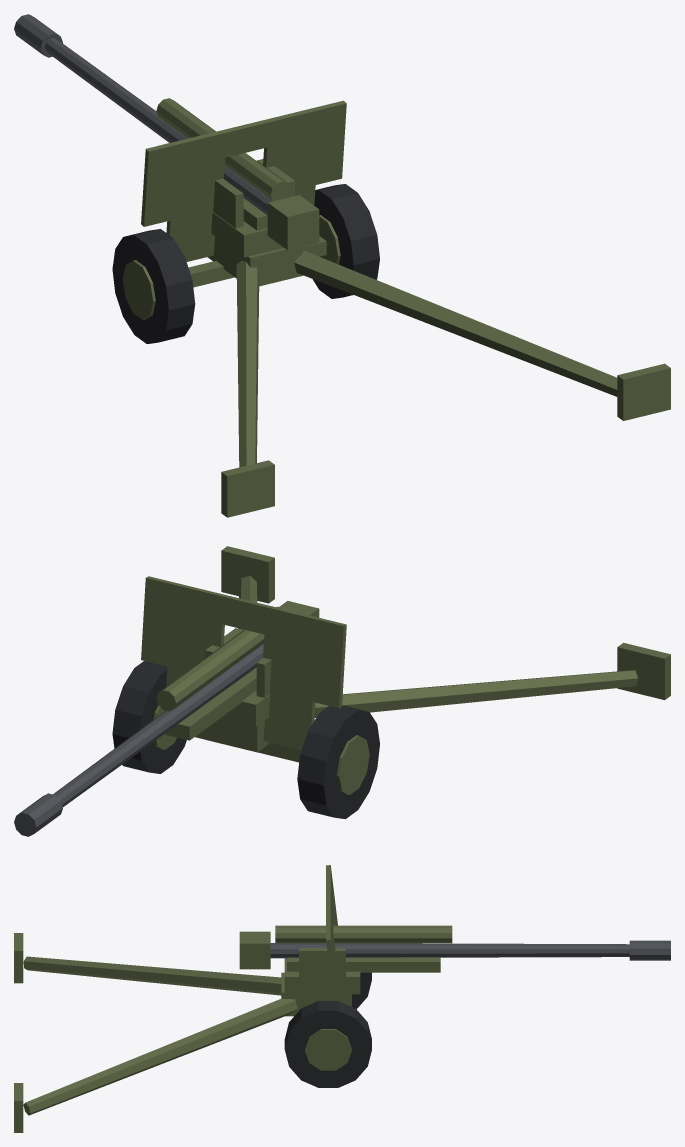
File: zis3.glb
The picture shows the model from 3 angles, top to bottom: view 1: azimuth 30°, elevation 25°; view 2: azimuth 150°, elevation 25°; view 3: azimuth 270°, elevation 25°; orthographic projection. The views are drawn at different scales.
Visible parts, largest first — view 1: ZIS3_Trail_R, ZIS3_ShieldUpper_L, ZIS3_Wheel_L, ZIS3_ShieldUpper_R, ZIS3_Trail_L, ZIS3_Wheel_R, ZIS3_Barrel, ZIS3_Recuperator, ZIS3_Spade_L, ZIS3_Spade_R, ZIS3_Breech, ZIS3_LowerCarriage (+7 smaller); view 2: ZIS3_ShieldUpper_L, ZIS3_ShieldUpper_R, ZIS3_Wheel_L, ZIS3_Trail_L, ZIS3_Barrel, ZIS3_Wheel_R, ZIS3_Recuperator, ZIS3_ShieldLower_L, ZIS3_Spade_L, ZIS3_Spade_R, ZIS3_Cradle, ZIS3_LowerCarriage (+6 smaller); view 3: ZIS3_Barrel, ZIS3_Trail_R, ZIS3_Wheel_R, ZIS3_Trail_L, ZIS3_Recuperator, ZIS3_Cradle, ZIS3_Hub_R, ZIS3_UpperCarriage, ZIS3_Breech, ZIS3_Bracket_R, ZIS3_BarrelBrake, ZIS3_LowerCarriage (+4 smaller).
Part boxes in pixels (bbox=[...]): ZIS3_Trail_R: bbox=[294, 250, 617, 396]; ZIS3_ShieldUpper_L: bbox=[141, 130, 226, 226]; ZIS3_Wheel_L: bbox=[112, 229, 195, 343]; ZIS3_ShieldUpper_R: bbox=[263, 100, 346, 189]; ZIS3_Trail_L: bbox=[236, 261, 259, 467]; ZIS3_Wheel_R: bbox=[312, 184, 379, 298]; ZIS3_Barrel: bbox=[44, 38, 273, 215]; ZIS3_Recuperator: bbox=[156, 98, 290, 200]; ZIS3_Spade_L: bbox=[221, 460, 274, 517]; ZIS3_Spade_R: bbox=[617, 363, 670, 420]; ZIS3_Breech: bbox=[267, 195, 319, 250]; ZIS3_LowerCarriage: bbox=[207, 236, 303, 286]; ZIS3_ShieldUpper_L: bbox=[263, 605, 346, 708]; ZIS3_ShieldUpper_R: bbox=[141, 576, 225, 671]; ZIS3_Wheel_L: bbox=[297, 705, 379, 819]; ZIS3_Trail_L: bbox=[314, 670, 638, 717]; ZIS3_Barrel: bbox=[53, 644, 263, 806]; ZIS3_Wheel_R: bbox=[112, 661, 186, 773]; ZIS3_Recuperator: bbox=[156, 606, 284, 711]; ZIS3_ShieldLower_L: bbox=[263, 691, 315, 750]; ZIS3_Spade_L: bbox=[617, 642, 670, 699]; ZIS3_Spade_R: bbox=[221, 546, 274, 603]; ZIS3_Cradle: bbox=[164, 667, 256, 740]; ZIS3_LowerCarriage: bbox=[204, 718, 268, 752]; ZIS3_Barrel: bbox=[270, 943, 629, 958]; ZIS3_Trail_R: bbox=[23, 999, 297, 1115]; ZIS3_Wheel_R: bbox=[284, 1001, 371, 1087]; ZIS3_Trail_L: bbox=[23, 956, 281, 995]; ZIS3_Recuperator: bbox=[275, 925, 452, 943]; ZIS3_Cradle: bbox=[287, 957, 440, 972]; ZIS3_Hub_R: bbox=[304, 1029, 351, 1070]; ZIS3_UpperCarriage: bbox=[284, 958, 360, 994]; ZIS3_Breech: bbox=[239, 931, 270, 969]; ZIS3_Bracket_R: bbox=[299, 948, 345, 976]; ZIS3_BarrelBrake: bbox=[629, 940, 670, 960]; ZIS3_LowerCarriage: bbox=[281, 972, 351, 1016].
Bounding box in the file's own units: 3.36 × 1.37 × 5.56.
